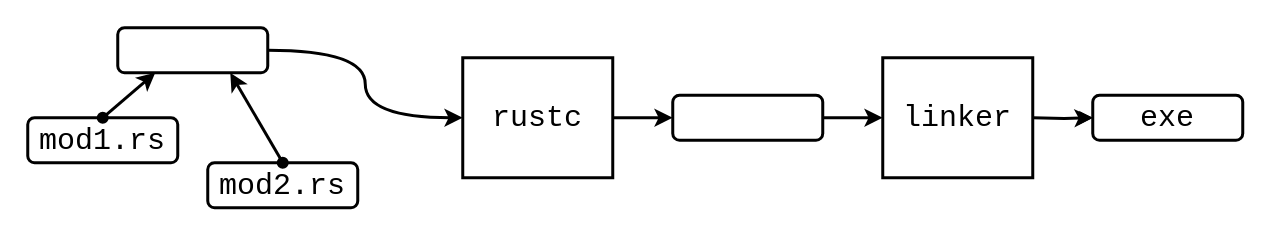
This 1269x234 diagram has some shape labels left out. The shapes that lost their labels are listed below. From the top down, each one's box as (x1, y1, x2, y2) in pixels, then its label:
(116, 26, 268, 74): main.rs
(670, 93, 824, 141): prog.o
